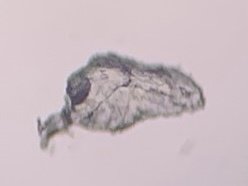microplastic: (35, 50, 205, 160)
